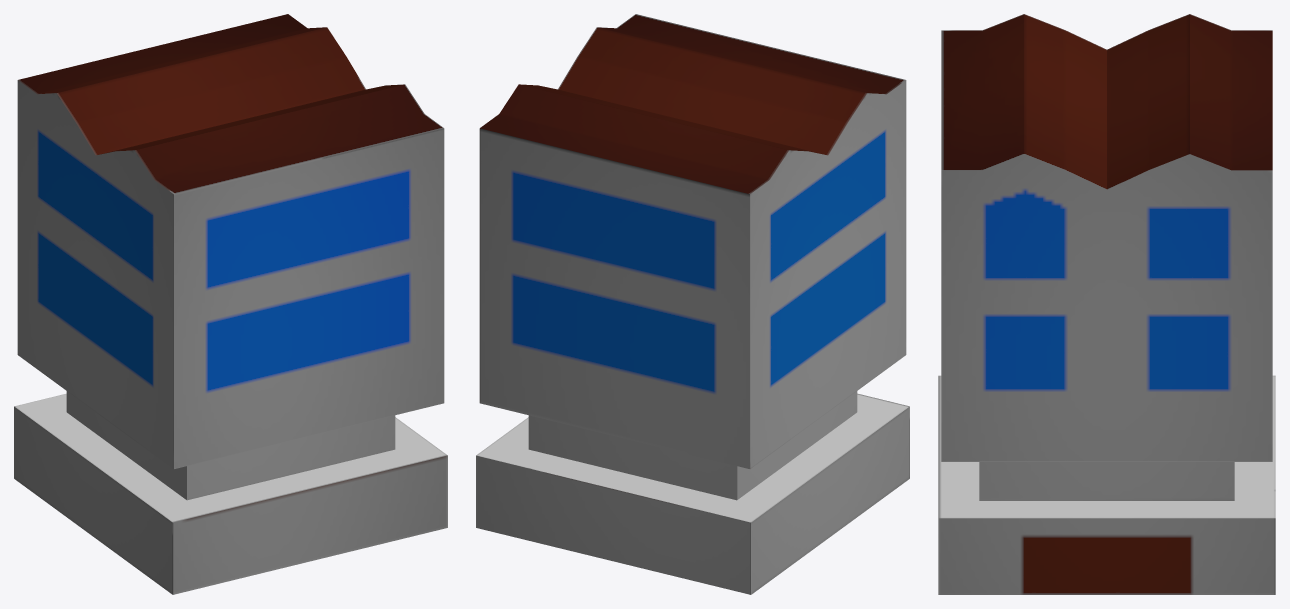
File: block.glb
3 views of the same model, side by side, from view 1: azimuth 30°, elevation 25°; view 2: azimuth 150°, elevation 25°; view 3: azimuth 270°, elevation 25° (orthographic). The views are drawn at different scales.
Parts seen in each view (by area): view 1: Cube; view 2: Cube; view 3: Cube.
Boxes of the visible parts, x1,y1,x2,y2 form: Cube: (14,14,447,594); Cube: (476,14,909,594); Cube: (938,14,1275,594).
Size of the model in its own units: 12 by 17.28 by 12.
Materials: 1 (1 with a texture image).
